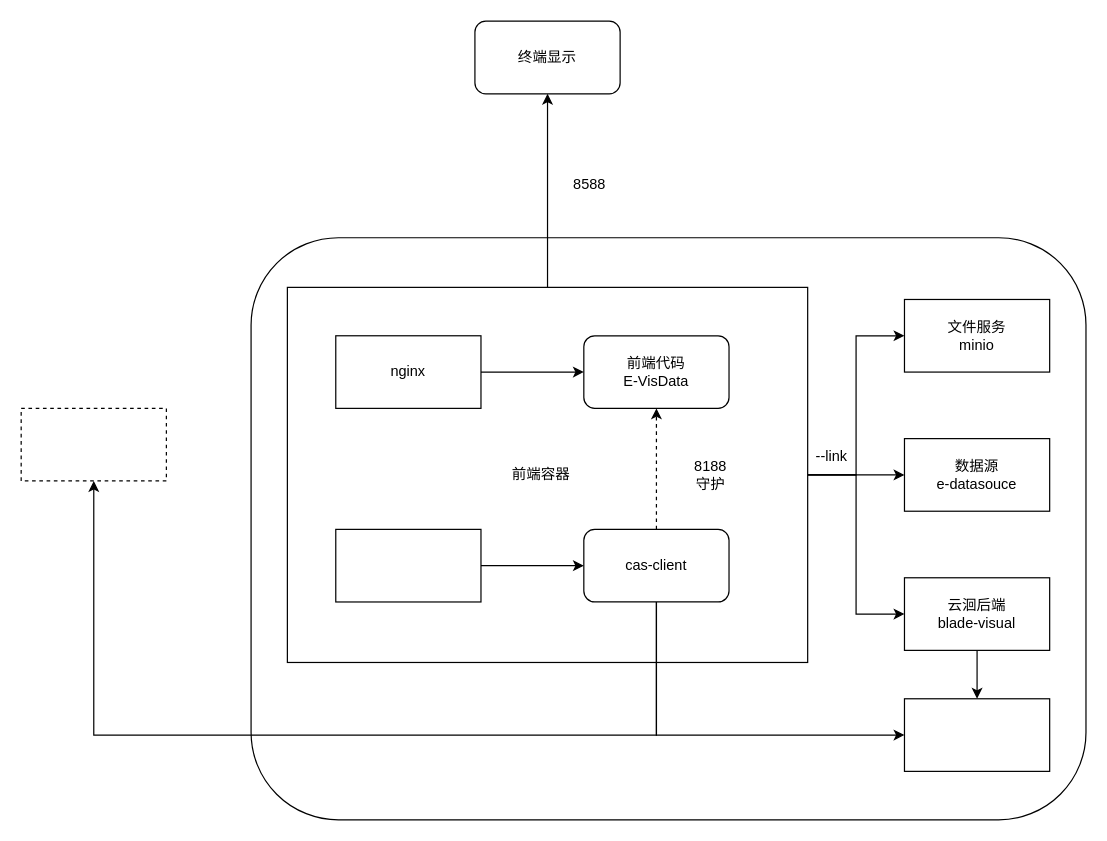
Some shapes in this 1107 by 841 pixel diagram are drawn without their labels. The centre of each missing label's shape, as x and y in pixels:
"Java" belongs at point 408,565.
"redis" belongs at point 976,734.
"用户管理中心" belongs at point 93,444.
